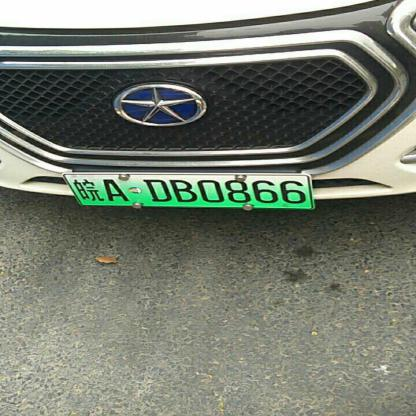lp: (64, 174, 312, 207)
